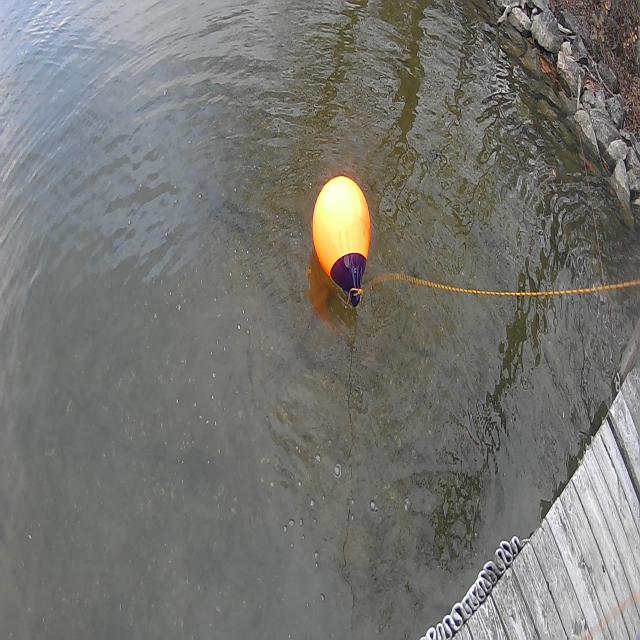Buoy: (308, 158, 384, 314)
